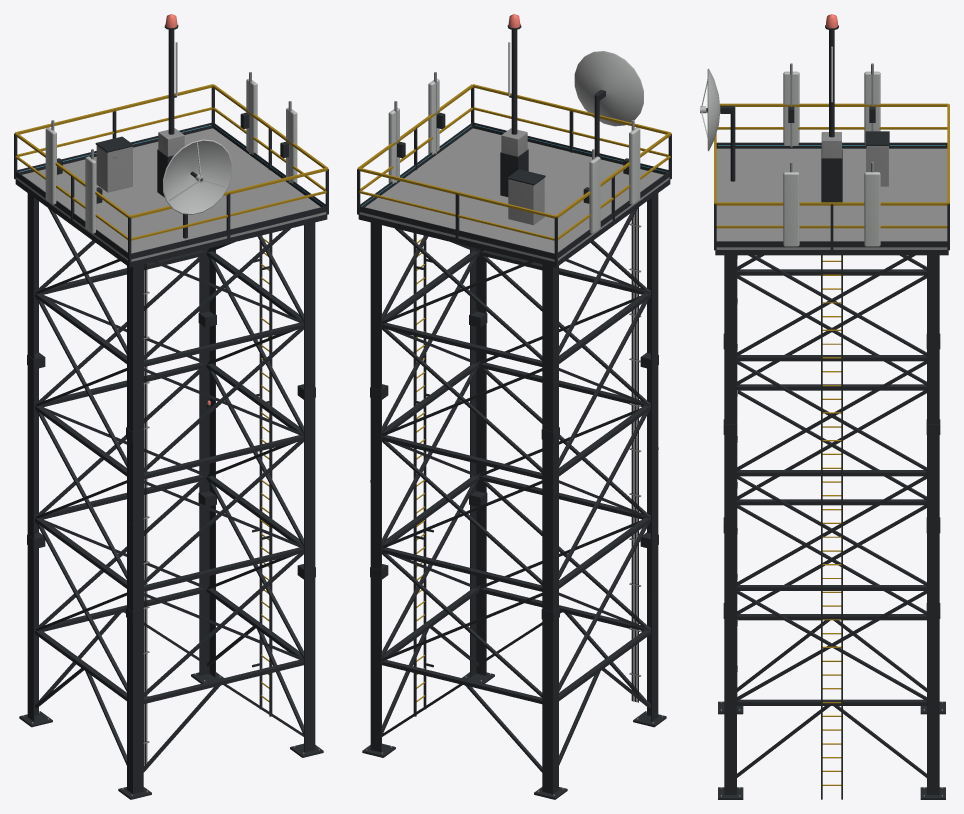
Rendered from RelayTower.fbx.
3 renders of one model, left to right at view 1: azimuth 30°, elevation 25°; view 2: azimuth 150°, elevation 25°; view 3: azimuth 270°, elevation 25°, orthographic. The views are drawn at different scales.
Parts seen in each view (by area): view 1: RelayTower_LOD0; view 2: RelayTower_LOD0; view 3: RelayTower_LOD0.
Boxes of the visible parts, x1,y1,x2,y2 form: RelayTower_LOD0: [14, 14, 328, 799]; RelayTower_LOD0: [357, 14, 671, 799]; RelayTower_LOD0: [700, 14, 949, 799].
Size of what is drawn, in the model's own units: 4.79 by 16.06 by 4.92.
